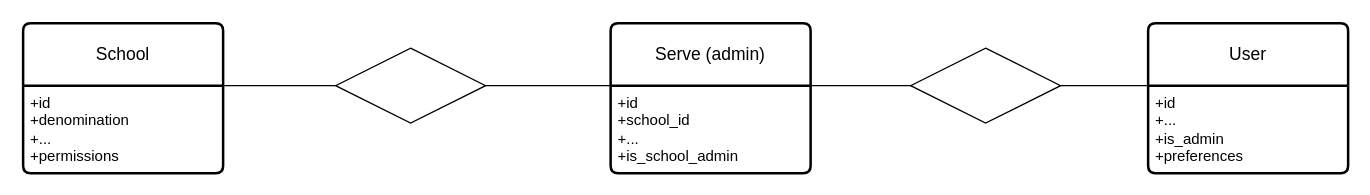
The diagram is 1370 pixels wide and 195 high, and some of its shapes have lost their labels. Each missing label, with the centre of its shape:
"has works for" belongs at pixel 410 85.
"manage is managed" belongs at pixel 985 85.
